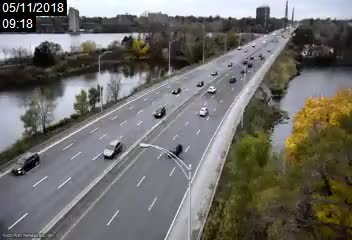personal_car: (11, 151, 39, 175), (102, 140, 123, 160), (166, 143, 183, 159), (152, 106, 167, 119), (198, 106, 210, 117), (206, 85, 217, 94), (170, 87, 181, 95), (210, 70, 219, 77), (195, 80, 203, 87), (229, 76, 236, 83)
